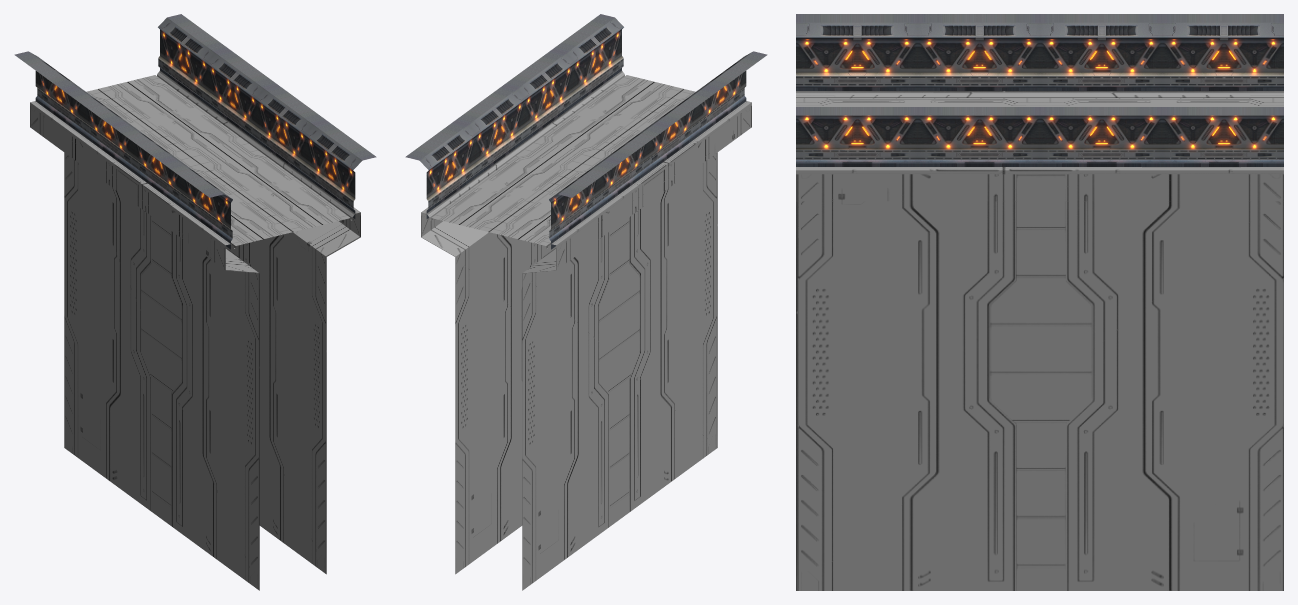
The model's file is plat_form.glb.
The picture shows the model from 3 angles, left to right: view 1: azimuth 30°, elevation 25°; view 2: azimuth 150°, elevation 25°; view 3: azimuth 270°, elevation 25°; orthographic projection. The views are drawn at different scales.
Parts seen in each view (by area): view 1: Plane, Plane.001; view 2: Plane, Plane.001; view 3: Plane, Plane.001.
Part boxes in pixels (<box>): Plane: <box>30,71,360,590</box>; Plane.001: <box>14,14,376,249</box>; Plane: <box>421,71,751,590</box>; Plane.001: <box>405,14,767,249</box>; Plane: <box>796,91,1283,590</box>; Plane.001: <box>796,14,1283,166</box>.
Size of the model in its own units: 4.94 by 11.45 by 10.01.
Materials: 2 (2 with a texture image).
